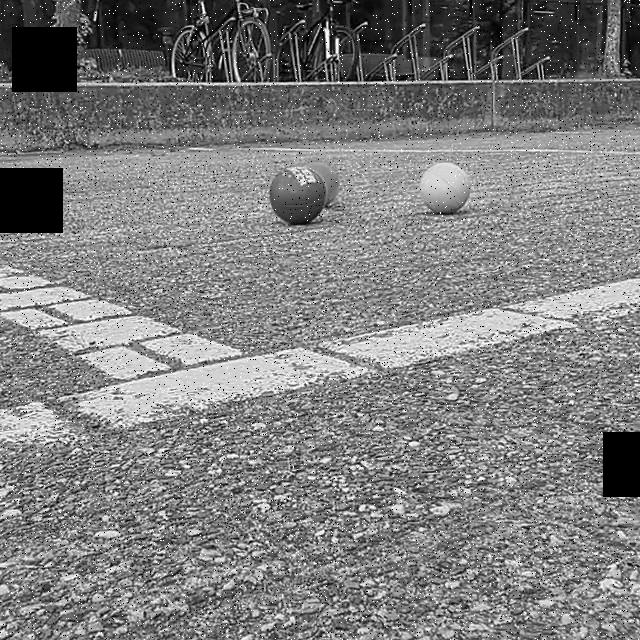ball: (269, 164, 327, 225), (418, 162, 474, 219)
